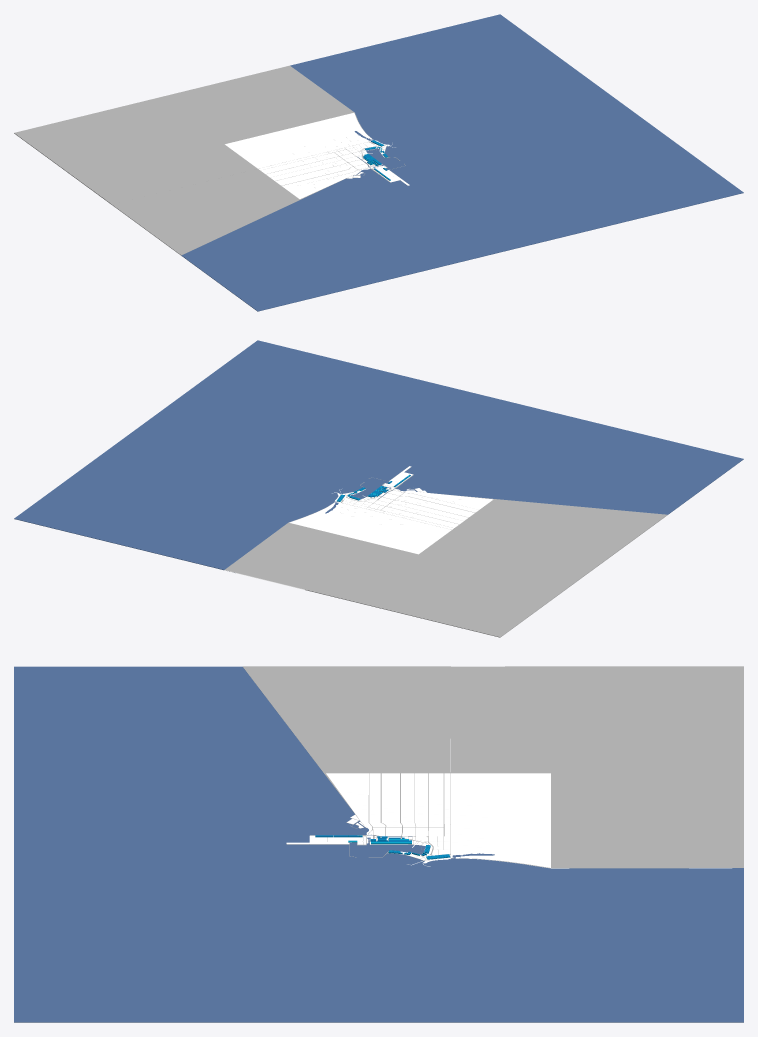
File: shijiugang1.glb
3 views of the same model, one above another, from view 1: azimuth 30°, elevation 25°; view 2: azimuth 150°, elevation 25°; view 3: azimuth 270°, elevation 25° (orthographic). The views are drawn at different scales.
Parts seen in each view (by area): view 1: 海面, shijiugang1, 道路01, 网格277_1, 网格_1, 网格274_1, 网格275_1; view 2: 海面, shijiugang1, 道路01, 网格277_1, 网格_1, 网格274_1, 网格275_1; view 3: 海面, shijiugang1, 道路01, 网格277_1, 网格_1, 网格274_1, 网格275_1.
Part boxes in pixels (x1=…): 海面: x1=181, y1=14, x2=743, y2=311; shijiugang1: x1=14, y1=85, x2=300, y2=204; 道路01: x1=111, y1=142, x2=409, y2=255; 网格277_1: x1=209, y1=65, x2=372, y2=155; 网格_1: x1=258, y1=140, x2=409, y2=198; 网格274_1: x1=225, y1=128, x2=325, y2=168; 网格275_1: x1=292, y1=113, x2=372, y2=151; 海面: x1=14, y1=340, x2=743, y2=572; shijiugang1: x1=305, y1=530, x2=597, y2=637; 道路01: x1=337, y1=467, x2=667, y2=565; 网格277_1: x1=225, y1=501, x2=369, y2=589; 网格_1: x1=335, y1=466, x2=493, y2=529; 网格274_1: x1=351, y1=513, x2=451, y2=554; 网格275_1: x1=289, y1=501, x2=383, y2=537; 海面: x1=14, y1=666, x2=743, y2=1022; shijiugang1: x1=450, y1=666, x2=743, y2=808; 道路01: x1=242, y1=666, x2=450, y2=860; 网格277_1: x1=450, y1=809, x2=743, y2=868; 网格_1: x1=286, y1=773, x2=450, y2=866; 网格274_1: x1=451, y1=773, x2=550, y2=822; 网格275_1: x1=451, y1=822, x2=550, y2=867.
Bounding box in the file's own units: 639 × 1.58 × 555.
